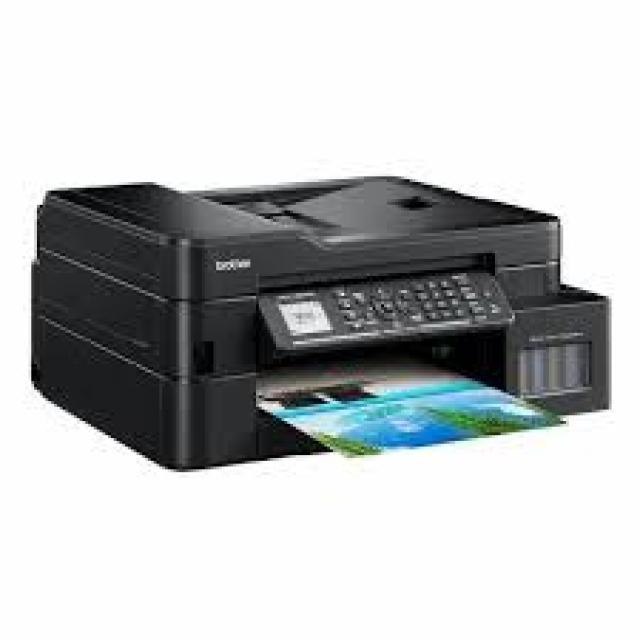printer: (29, 171, 612, 469)
